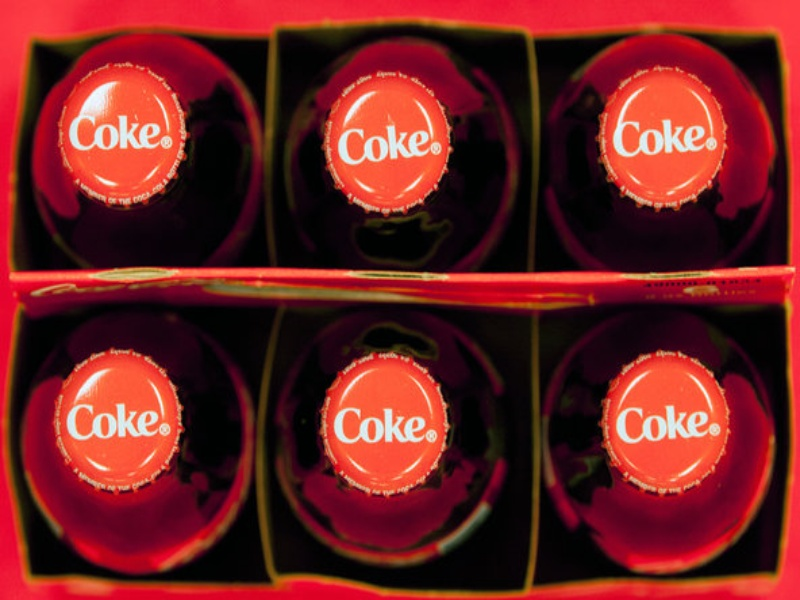coke-glass-bottle: (30, 314, 257, 550), (551, 331, 764, 554), (295, 51, 516, 254), (290, 315, 487, 540), (30, 40, 247, 244), (558, 44, 757, 254)
